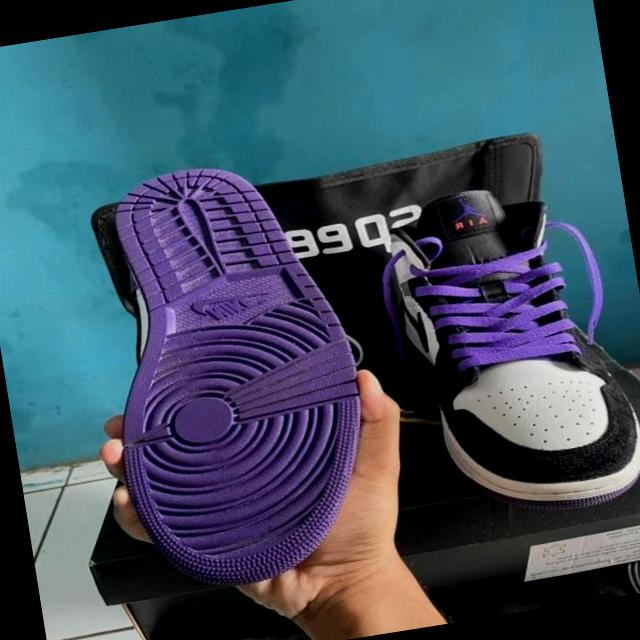nike_fake_jordan: (372, 165, 640, 535)
nike_original_jordan: (73, 147, 374, 508)
